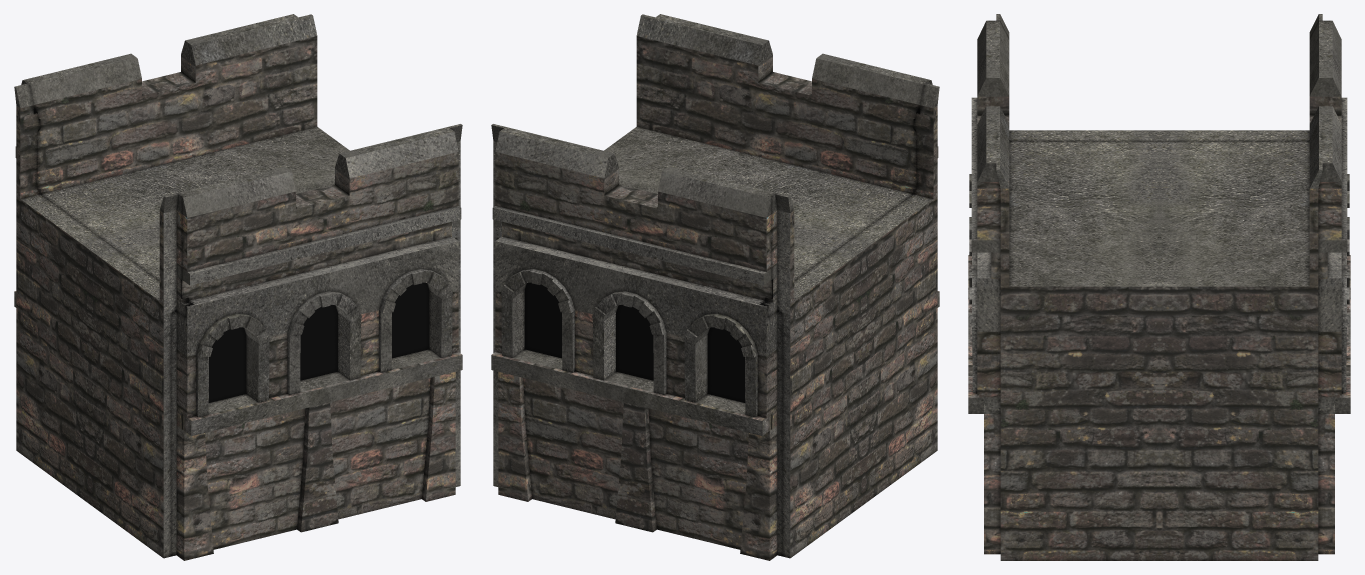
Rendered from Muralla_medio.fbx.
3 views of the same model, side by side, from view 1: azimuth 30°, elevation 25°; view 2: azimuth 150°, elevation 25°; view 3: azimuth 270°, elevation 25° (orthographic). The views are drawn at different scales.
Parts seen in each view (by area): view 1: Muralla_parte media; view 2: Muralla_parte media; view 3: Muralla_parte media.
Boxes of the visible parts, box(x1,y1,x2,y2) form: Muralla_parte media: box(14, 14, 462, 560); Muralla_parte media: box(491, 14, 939, 560); Muralla_parte media: box(968, 14, 1350, 560).
Size of the model in its own units: 6360 by 7417 by 6574.
Materials: 1 (1 with a texture image).
